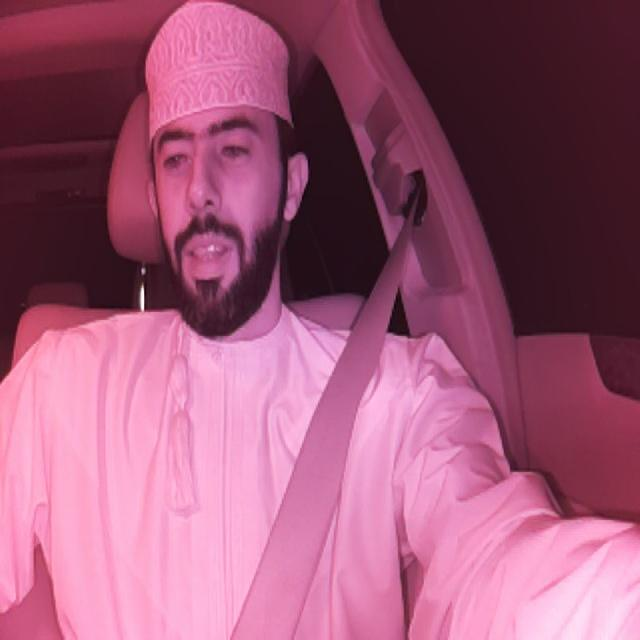seatbelt: (232, 173, 426, 638)
